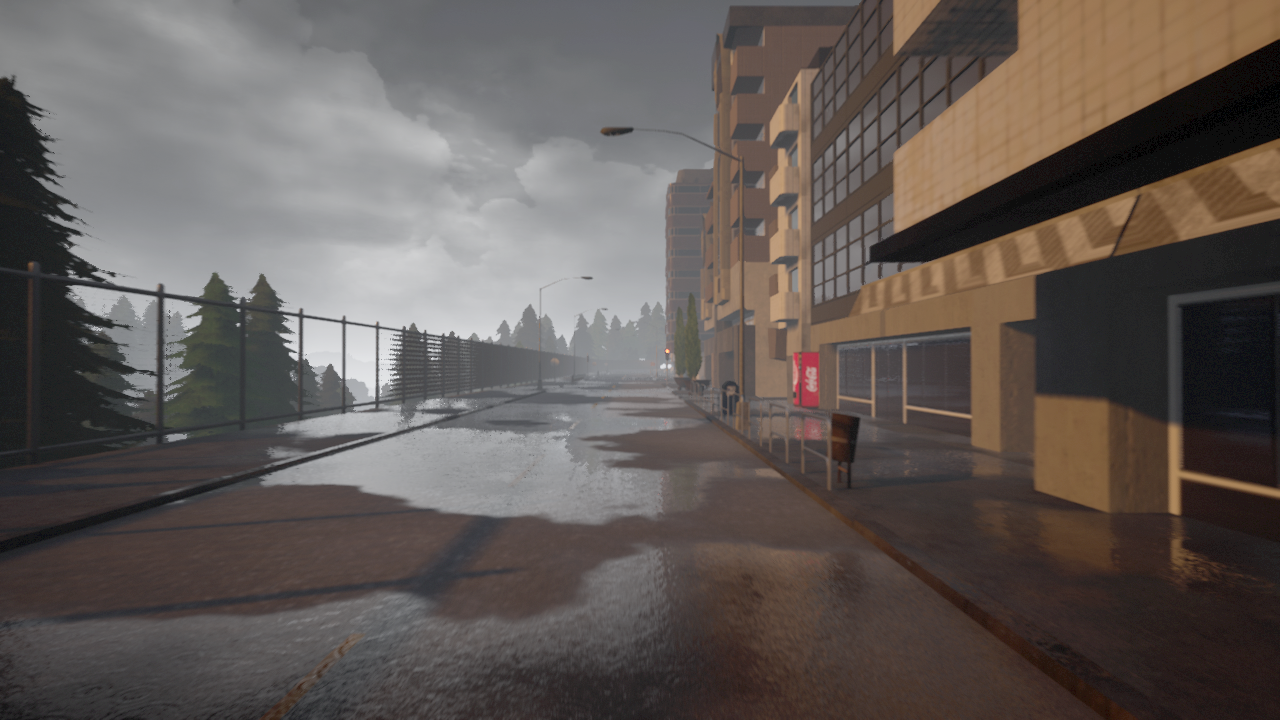red: (663, 348, 670, 361)
